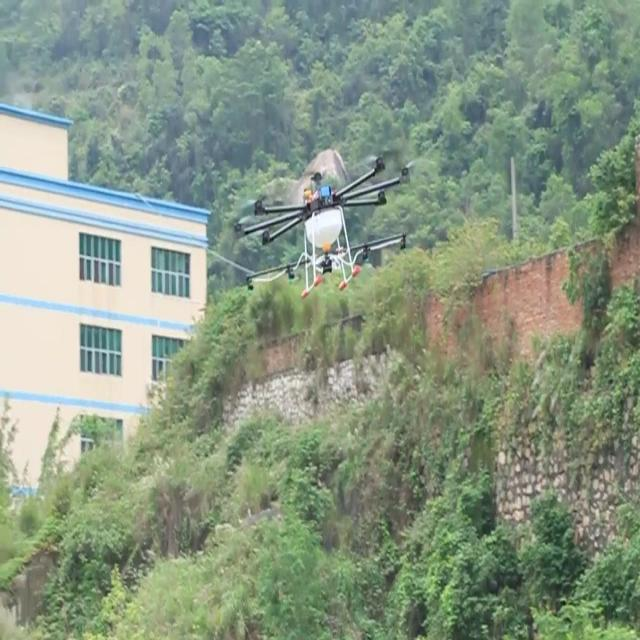UAV: (235, 158, 409, 298)
